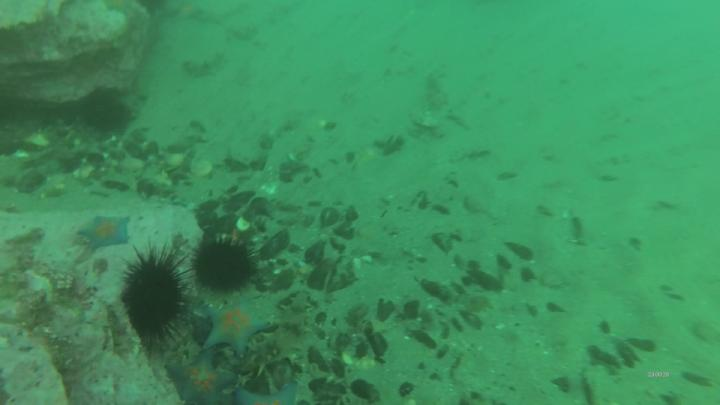echinus: (125, 259, 185, 340), (197, 243, 251, 291), (83, 97, 130, 129)
holothurian: (242, 295, 311, 369)
starfish: (200, 303, 272, 351), (167, 353, 236, 399), (77, 217, 131, 250)
